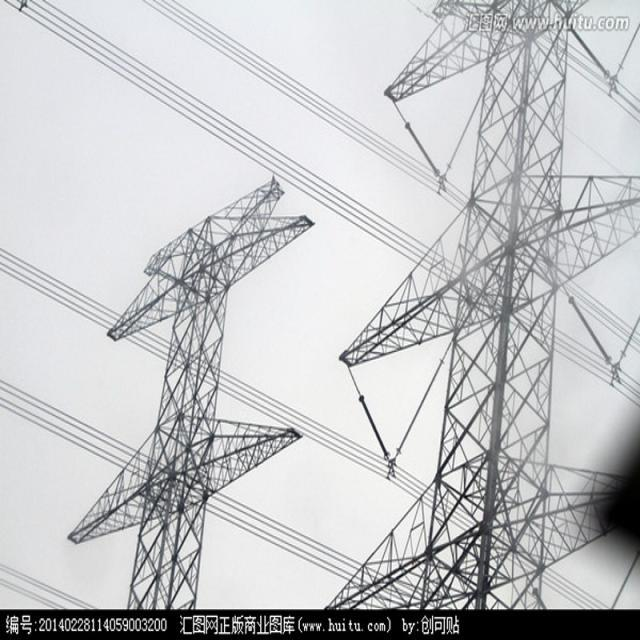non-critical vegetation: (382, 0, 604, 616), (112, 188, 286, 604)
